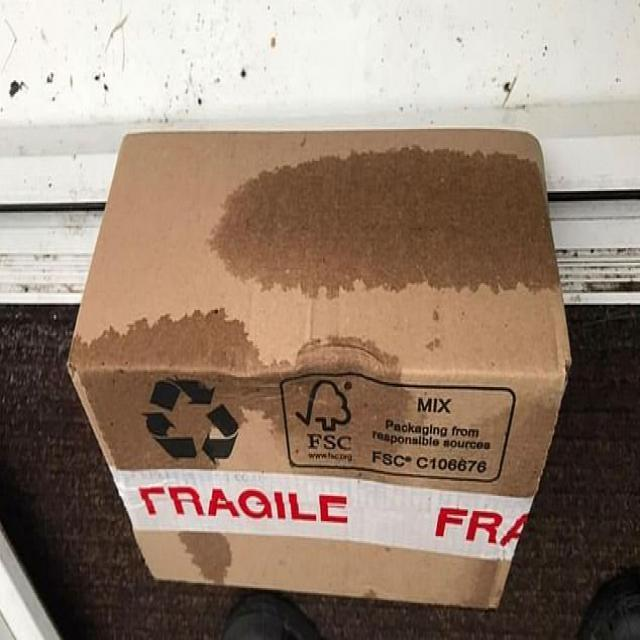wet: (217, 146, 547, 305), (83, 318, 405, 474)
